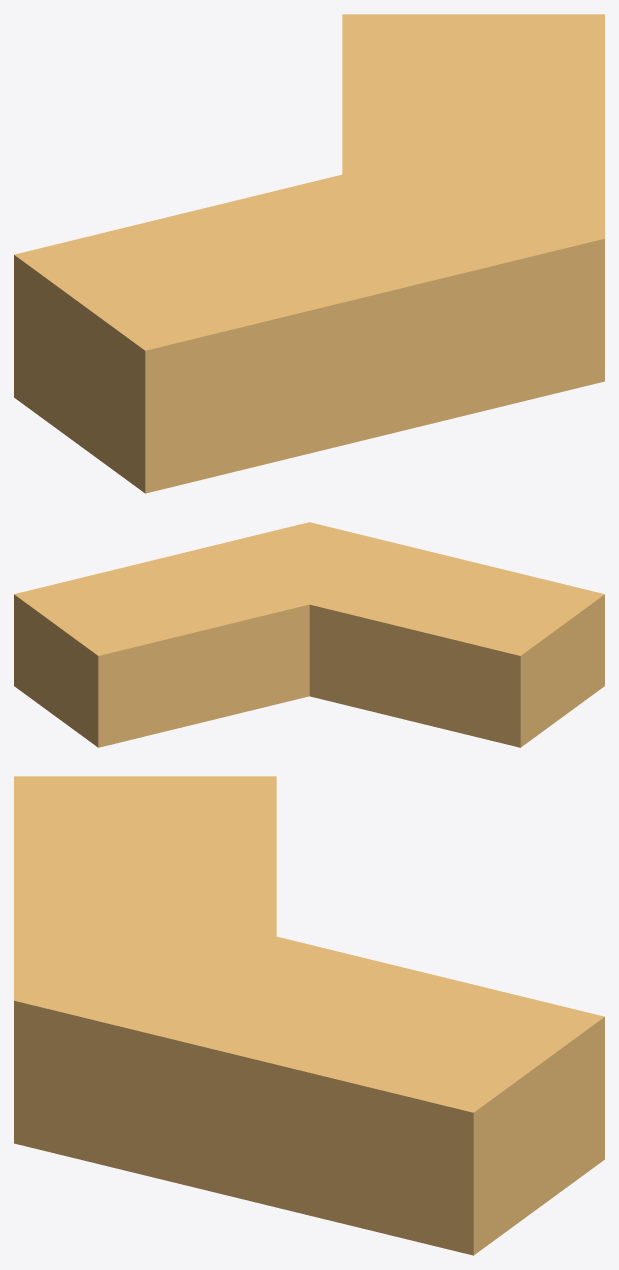
File: 12wall1.glb
3 views of the same model, one above another, from view 1: azimuth 30°, elevation 25°; view 2: azimuth 150°, elevation 25°; view 3: azimuth 270°, elevation 25° (orthographic). The views are drawn at different scales.
Parts seen in each view (by area): view 1: VaromaCliff3; view 2: VaromaCliff3; view 3: VaromaCliff3.
Boxes of the visible parts, x1,y1,x2,y2 form: VaromaCliff3: [14, 14, 604, 493]; VaromaCliff3: [14, 522, 604, 747]; VaromaCliff3: [14, 776, 604, 1255].
Bounding box in the file's own units: 1.52 × 0.3 × 1.12.
Materials: 1 (1 with a texture image).
